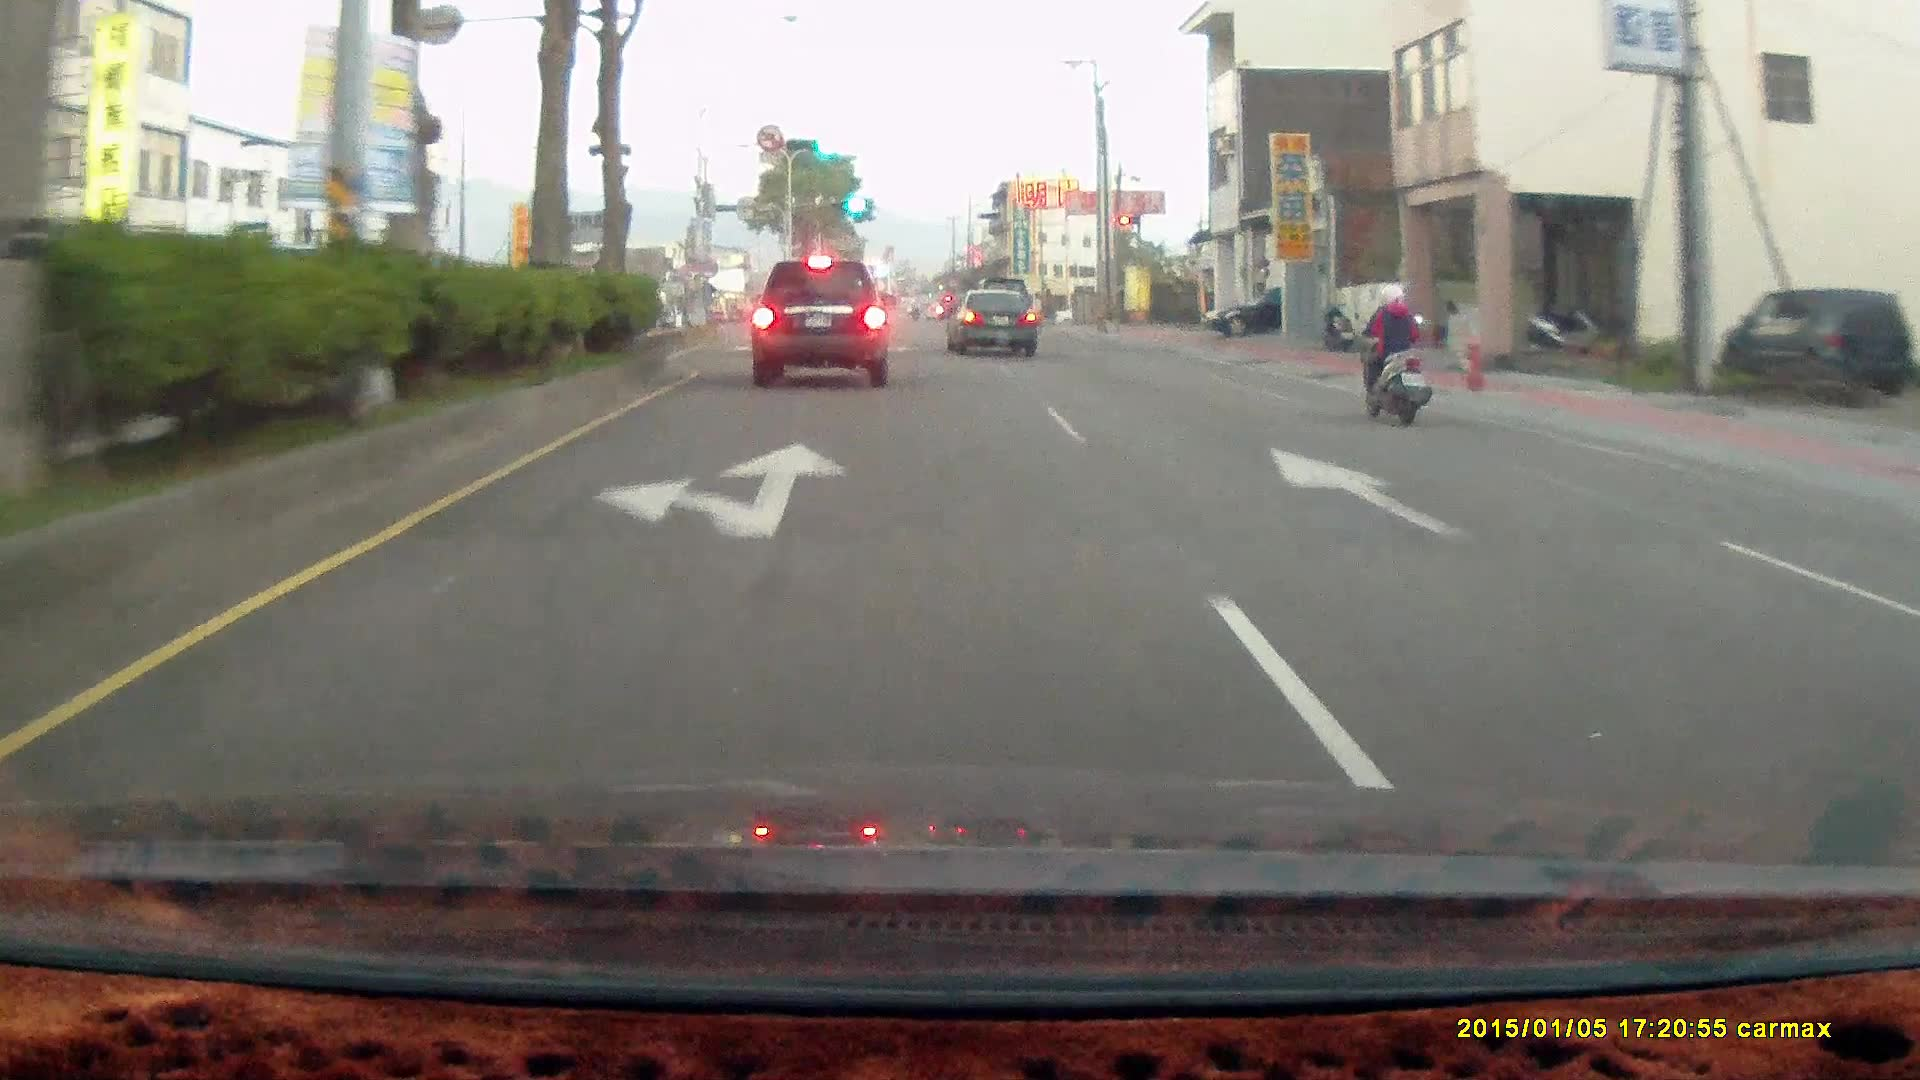rider: (1342, 272, 1446, 436), (1356, 287, 1431, 435)
vehicle: (1721, 288, 1909, 399), (1725, 285, 1906, 397), (749, 260, 893, 392), (751, 261, 896, 388), (1203, 287, 1350, 341), (948, 289, 1043, 358), (945, 288, 1037, 354), (1203, 287, 1286, 341)
